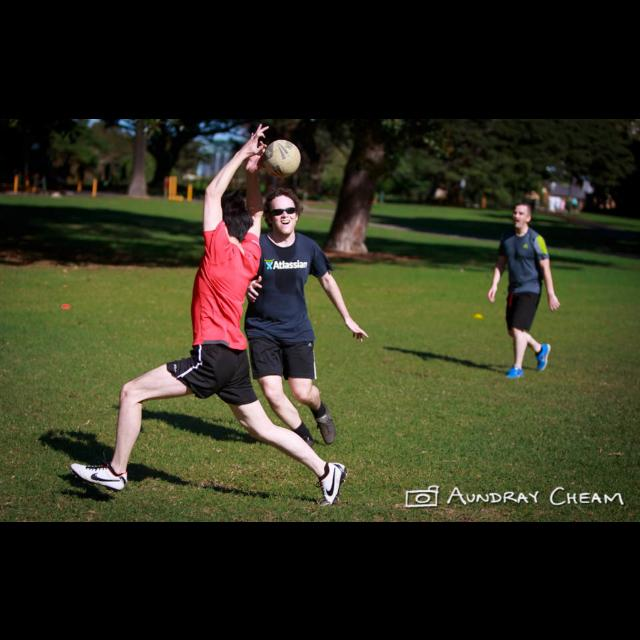Football: (256, 136, 300, 176)
